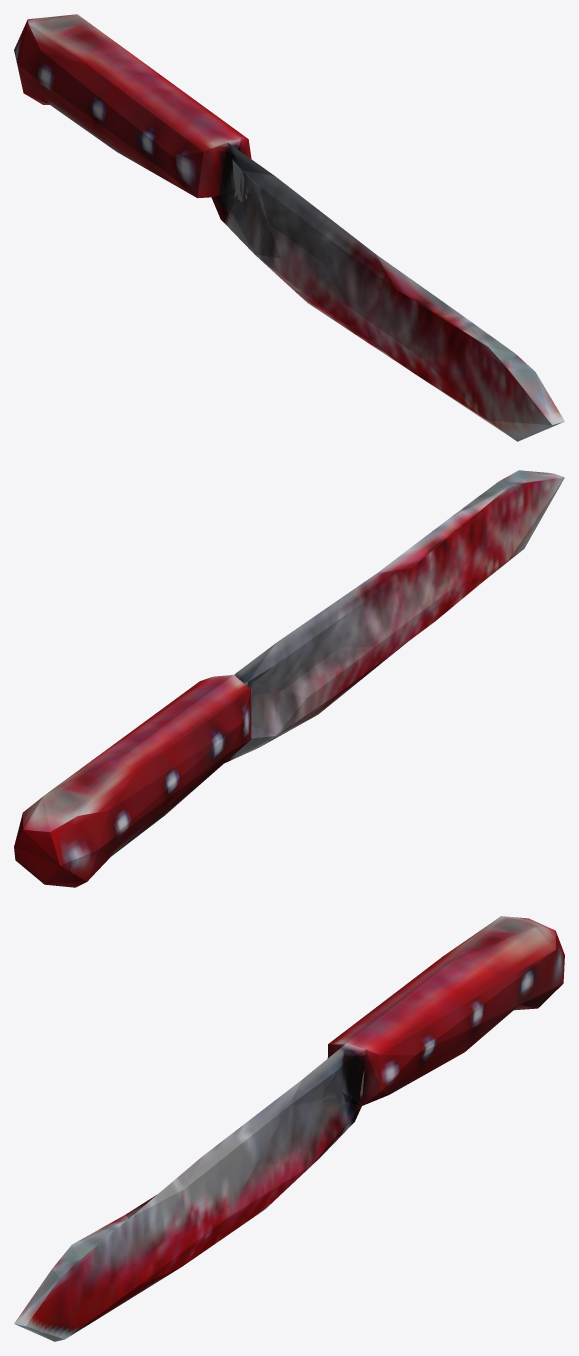
The model's file is uploads_files_5258505_KnifeUpdated.fbx.
3 views of the same model, one above another, from view 1: azimuth 30°, elevation 25°; view 2: azimuth 150°, elevation 25°; view 3: azimuth 330°, elevation 25° (orthographic).
Visible parts, largest first — view 1: Knife; view 2: Knife; view 3: Knife.
Part boxes in pixels (<box>): Knife: <box>14,14,564,441</box>; Knife: <box>14,470,564,887</box>; Knife: <box>14,916,564,1341</box>.
Bounding box in the file's own units: 8.43 × 10.73 × 99.98.
1 material, 1 textured.
